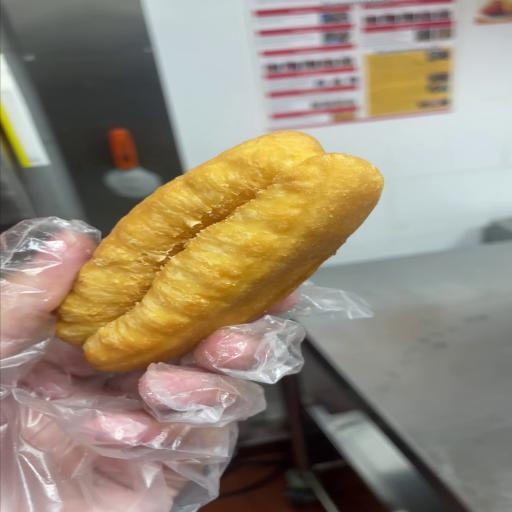brand_golden_good: (56, 132, 383, 371)
